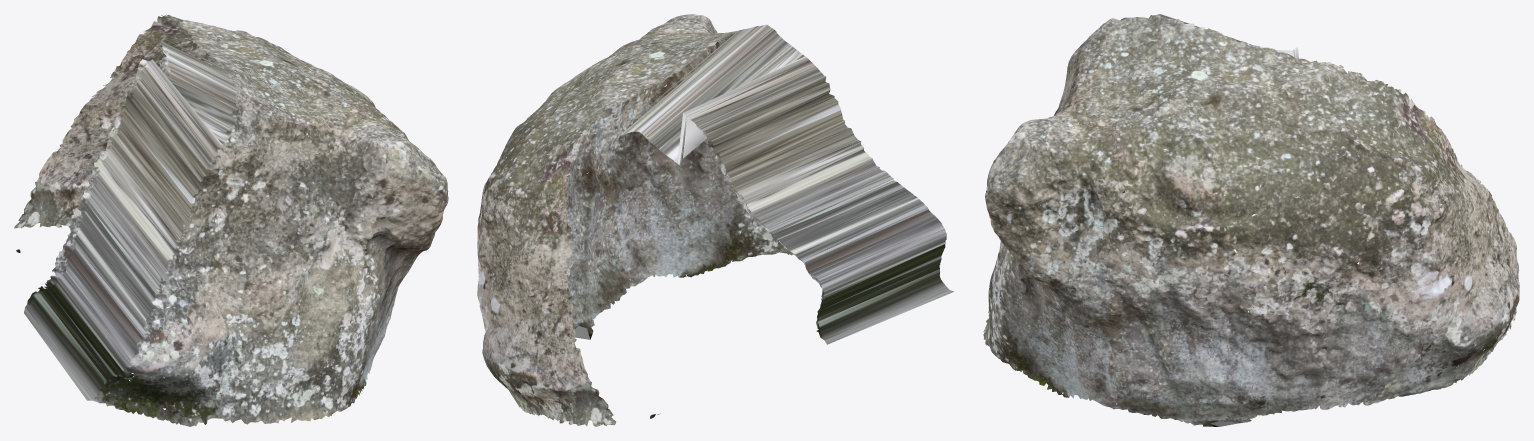
The picture shows the model from 3 angles, left to right: view 1: azimuth 30°, elevation 25°; view 2: azimuth 150°, elevation 25°; view 3: azimuth 270°, elevation 25°; orthographic projection. The views are drawn at different scales.
Visible parts, largest first — view 1: model_tex_u1_v1_0.001; view 2: model_tex_u1_v1_0.001; view 3: model_tex_u1_v1_0.001.
Boxes of the visible parts, <box> form: model_tex_u1_v1_0.001: <box>14,14,448,426</box>; model_tex_u1_v1_0.001: <box>477,14,954,426</box>; model_tex_u1_v1_0.001: <box>983,14,1519,426</box>.
Size of the model in its own units: 1.23 by 1.05 by 1.47.
Materials: 1 (1 with a texture image).
